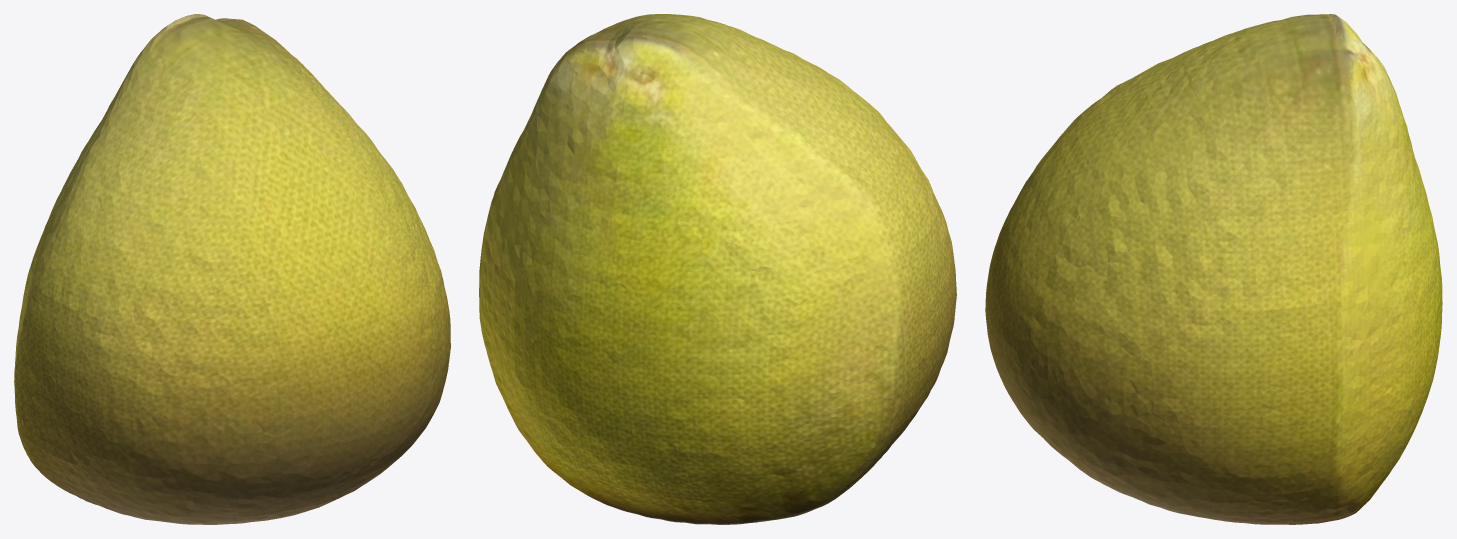
3 views of the same model, side by side, from view 1: azimuth 30°, elevation 25°; view 2: azimuth 150°, elevation 25°; view 3: azimuth 270°, elevation 25° (orthographic). The views are drawn at different scales.
Parts seen in each view (by area): view 1: 363c07d0-2420-43a2-8907-6ed7d7aefe1e; view 2: 363c07d0-2420-43a2-8907-6ed7d7aefe1e; view 3: 363c07d0-2420-43a2-8907-6ed7d7aefe1e.
Part boxes in pixels (<box>): 363c07d0-2420-43a2-8907-6ed7d7aefe1e: <box>14,14,450,524</box>; 363c07d0-2420-43a2-8907-6ed7d7aefe1e: <box>479,14,956,524</box>; 363c07d0-2420-43a2-8907-6ed7d7aefe1e: <box>985,14,1442,524</box>.
Size of the model in its own units: 0.4462 by 0.5 by 0.4299.
1 material, 1 textured.
